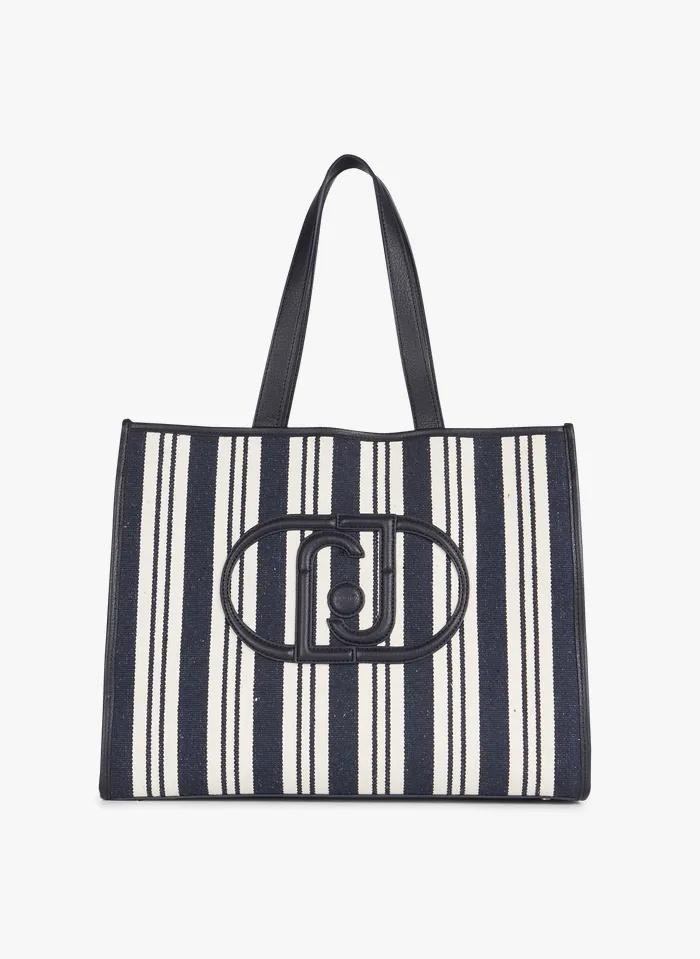LIU-JO: (295, 513, 395, 663)
